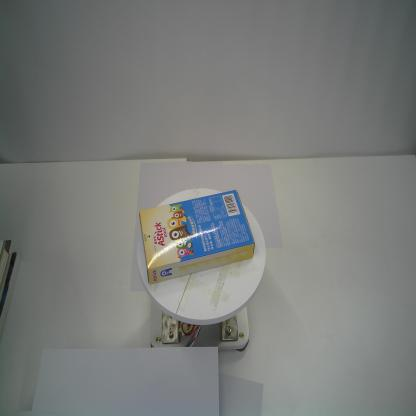Dessert: (138, 188, 258, 286)
